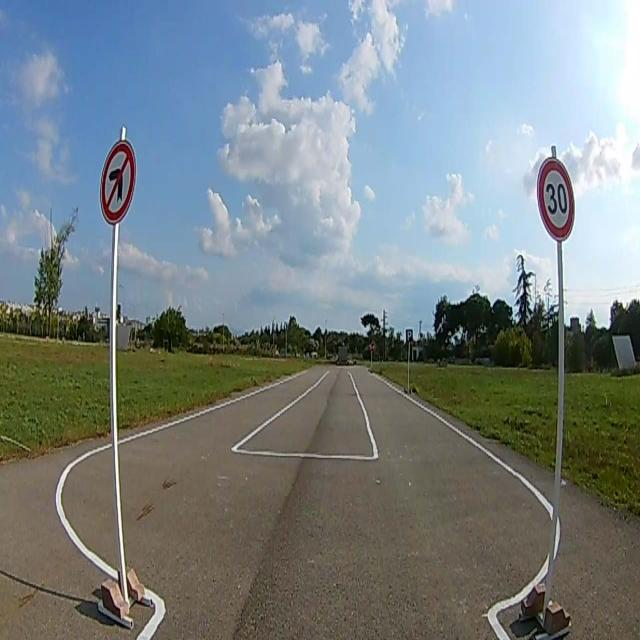30: (536, 158, 574, 241)
soladonulmez: (100, 142, 136, 222)
